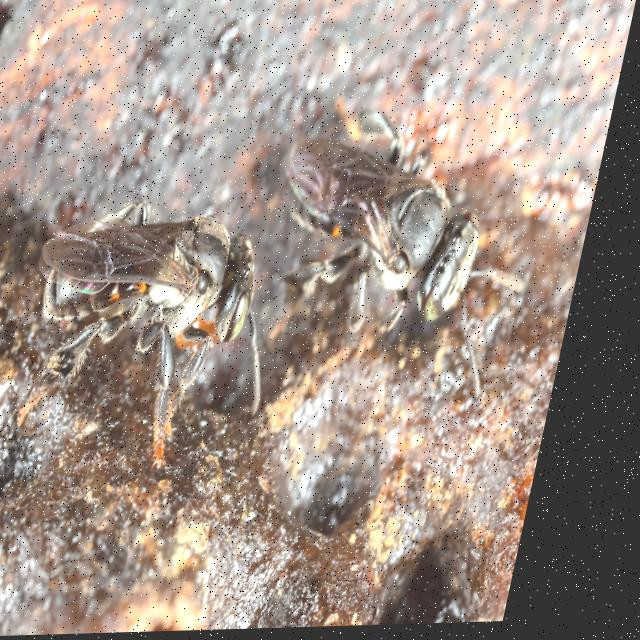Meliponula: (251, 100, 580, 416), (19, 187, 309, 464)
